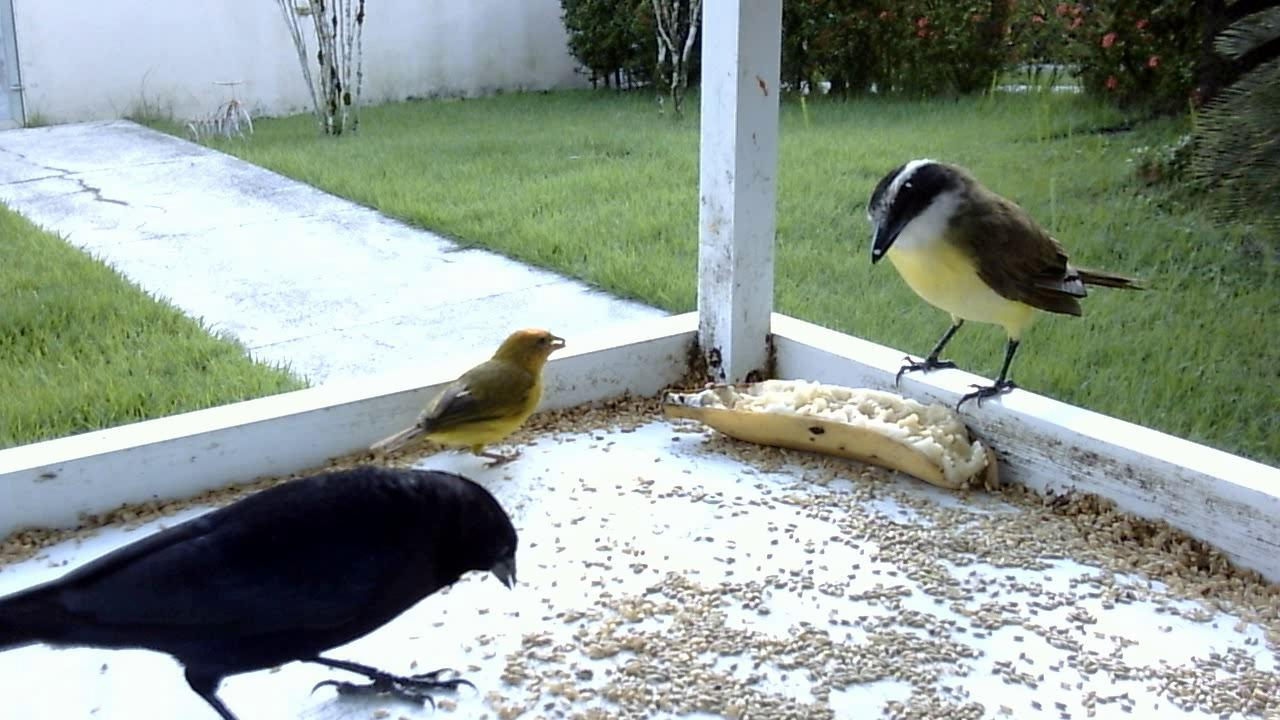bem_te_vi: (857, 148, 1152, 425)
canario_do_amazonas: (356, 322, 572, 485)
chupim: (4, 452, 529, 715)
